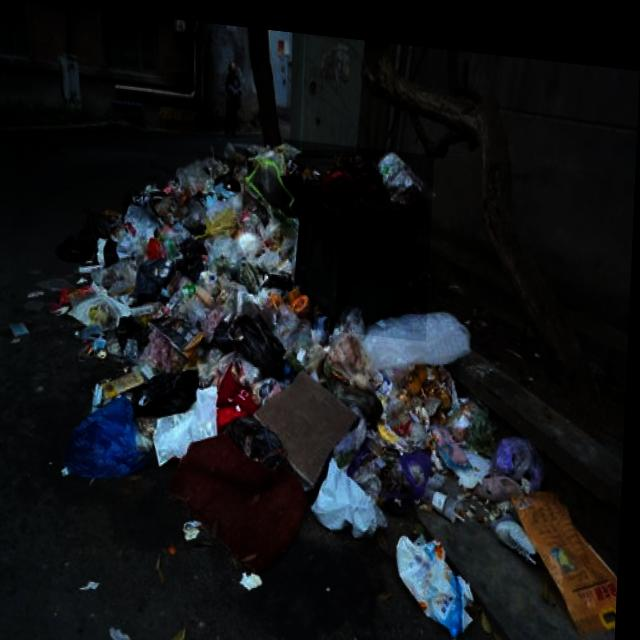garbage: (3, 108, 635, 639)
overflow: (279, 133, 435, 332)
